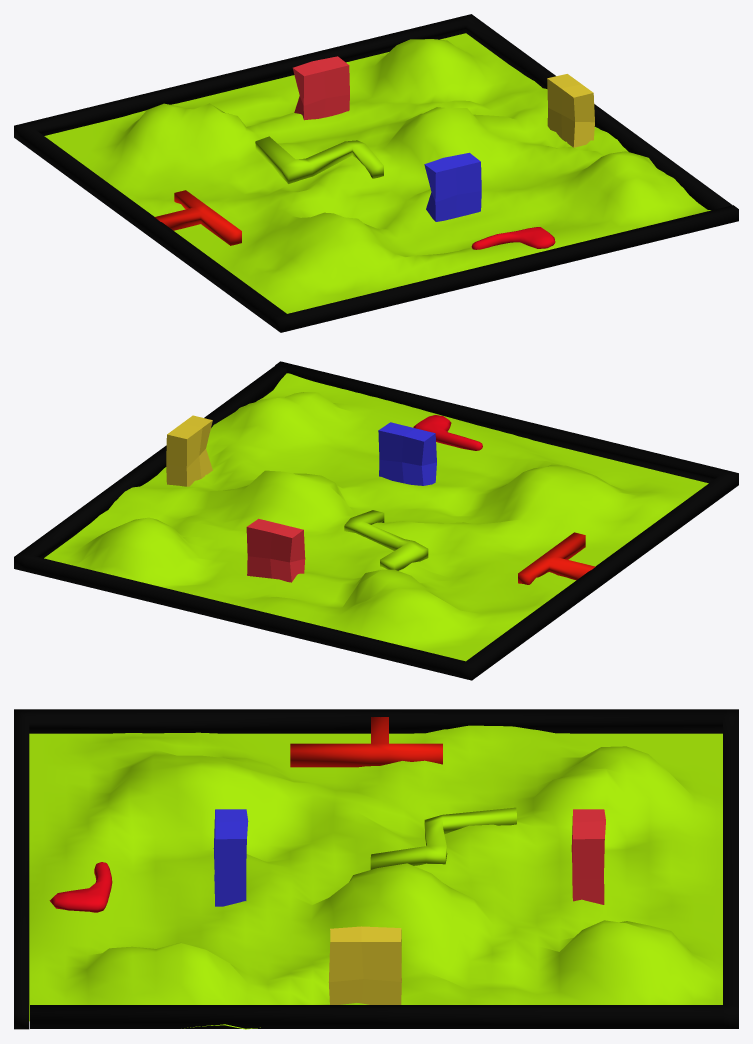
Rendered from arena nueva.fbx.
3 renders of one model, top to bottom at view 1: azimuth 30°, elevation 25°; view 2: azimuth 150°, elevation 25°; view 3: azimuth 270°, elevation 25°, orthographic. The views are drawn at different scales.
Parts seen in each view (by area): view 1: Cube, Cube.001, Cube.004, Cube.005, Cube.006, Cube.002, Cube.003; view 2: Cube, Cube.001, Cube.004, Cube.005, Cube.006, Cube.002, Cube.003; view 3: Cube, Cube.001, Cube.006, Cube.002, Cube.004, Cube.005, Cube.003.
Part boxes in pixels (x1,y1,x2,y2): Cube: (44,33,710,313); Cube.001: (14,14,738,332); Cube.004: (424,152,481,221); Cube.005: (292,56,349,120); Cube.006: (547,74,594,147); Cube.002: (154,190,241,245); Cube.003: (471,227,555,249); Cube: (44,373,708,661); Cube.001: (14,361,738,680); Cube.004: (378,422,436,485); Cube.005: (246,518,305,582); Cube.006: (166,415,212,486); Cube.002: (518,532,595,584); Cube.003: (413,415,482,450); Cube: (29,725,722,1029); Cube.001: (14,709,738,1029); Cube.006: (328,926,401,1004); Cube.002: (290,717,442,767); Cube.004: (213,809,248,906); Cube.005: (571,809,605,904); Cube.003: (49,862,112,912).
Bounding box in the file's own units: 39582 × 4980 × 39907.
